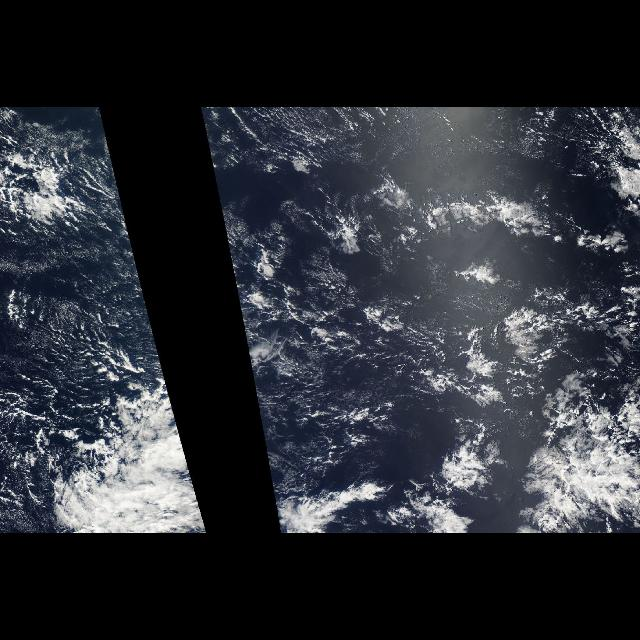Flower: (402, 263, 636, 532)
Gravel: (9, 358, 106, 462)
Sugar: (237, 213, 463, 485), (4, 186, 156, 456)
